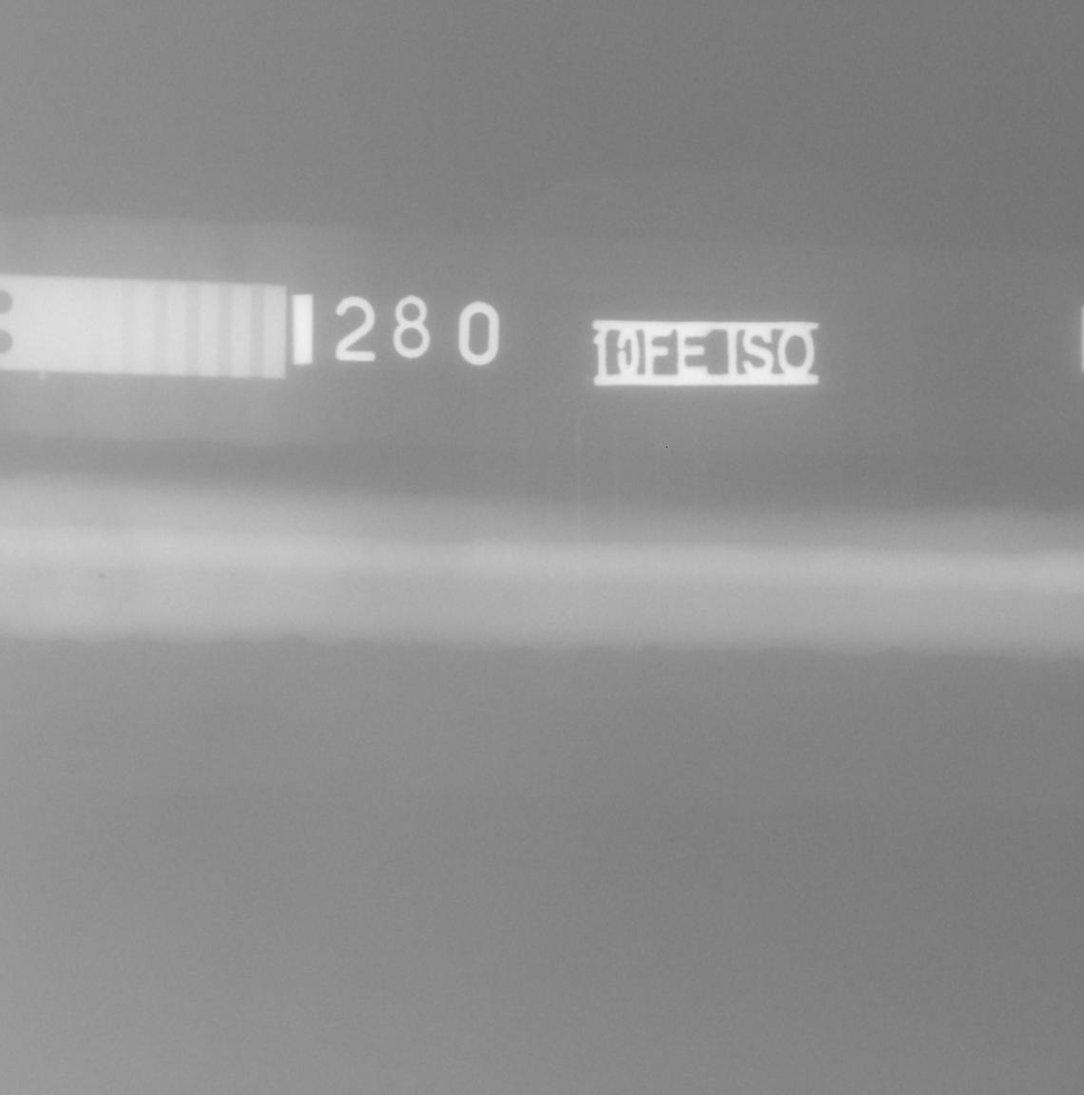Pore/Porosity: (98, 573, 105, 579), (231, 574, 236, 577)
